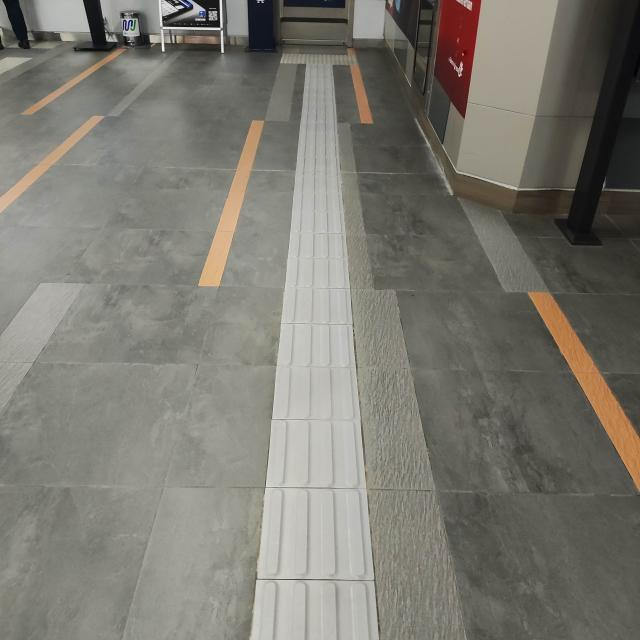lurus: (264, 70, 360, 640)
